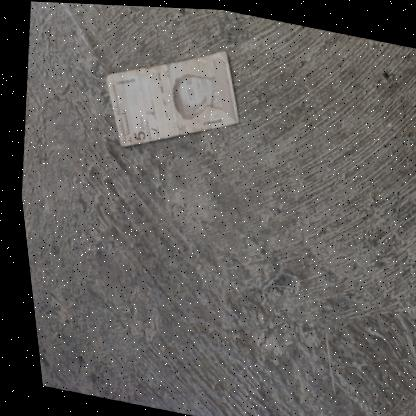five-front-vef: (88, 25, 251, 168)
